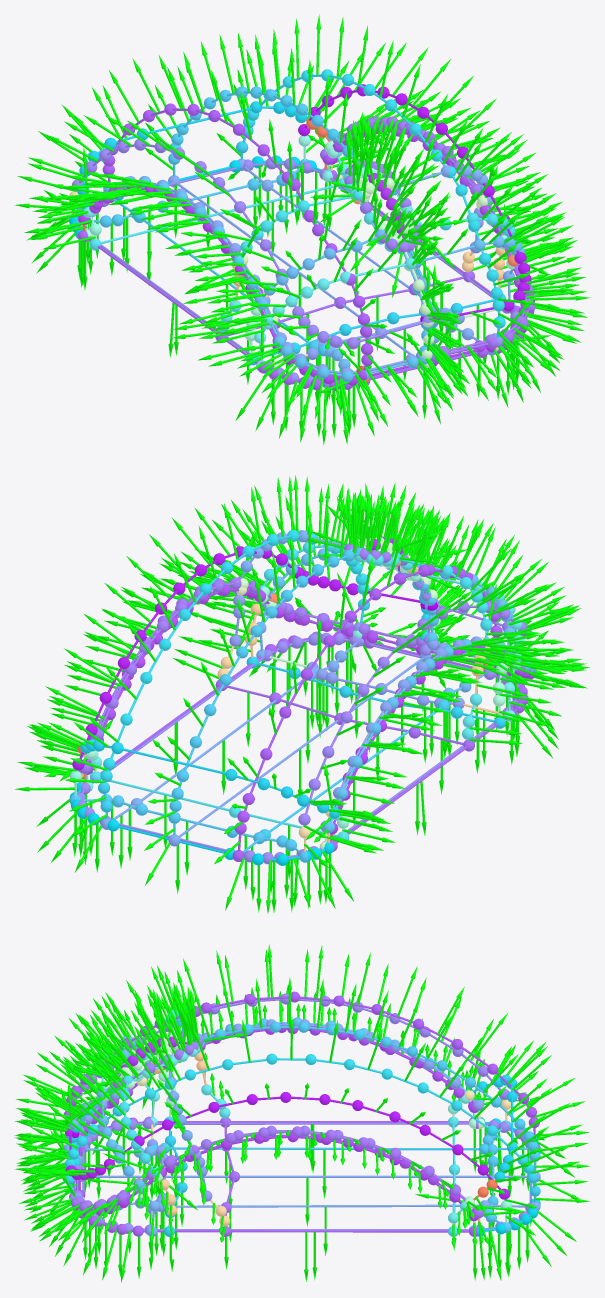
Rendered from flowrep_mouse.gltf.
3 views of the same model, one above another, from view 1: azimuth 30°, elevation 25°; view 2: azimuth 150°, elevation 25°; view 3: azimuth 270°, elevation 25° (orthographic). The views are drawn at different scales.
Bounding box in the file's own units: 0.6634 × 0.4951 × 1.03.
